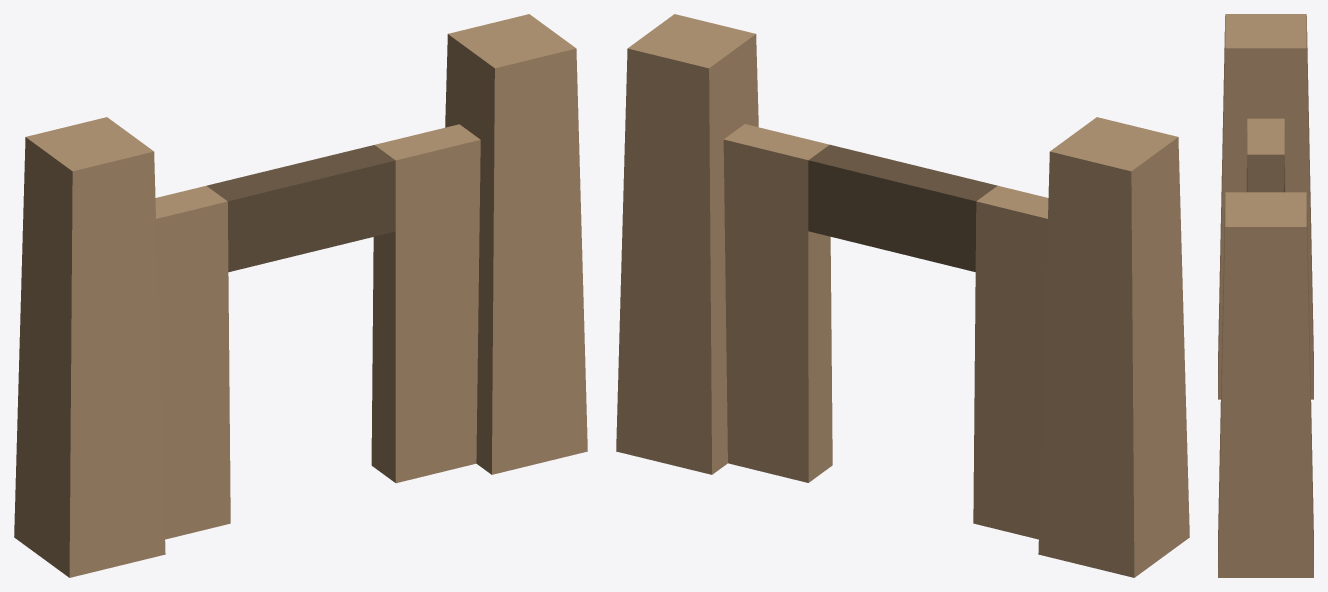
File: Low_Wall_Door.fbx
3 views of the same model, side by side, from view 1: azimuth 30°, elevation 25°; view 2: azimuth 150°, elevation 25°; view 3: azimuth 270°, elevation 25° (orthographic). The views are drawn at different scales.
Parts seen in each view (by area): view 1: Low_Wall_Door; view 2: Low_Wall_Door; view 3: Low_Wall_Door.
Boxes of the visible parts, left/top/right/bottom form: Low_Wall_Door: left=14, top=14, right=587, bottom=577; Low_Wall_Door: left=616, top=14, right=1189, bottom=577; Low_Wall_Door: left=1218, top=14, right=1313, bottom=577.
Size of the model in its own units: 675 by 500 by 125.
Materials: 1 (1 with a texture image).
